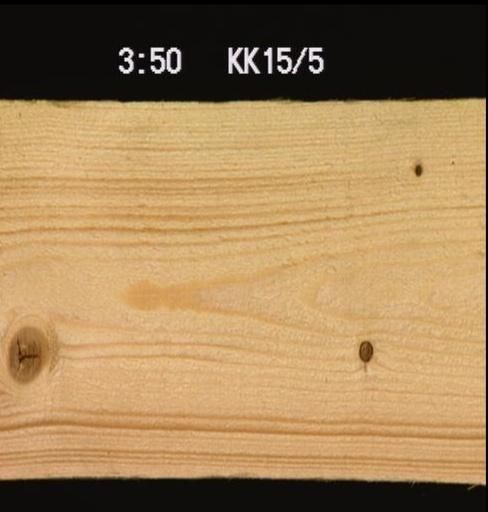dry_knot: (355, 337, 372, 363)
small_knot: (410, 160, 423, 178)
sound_knot: (4, 323, 46, 383)
